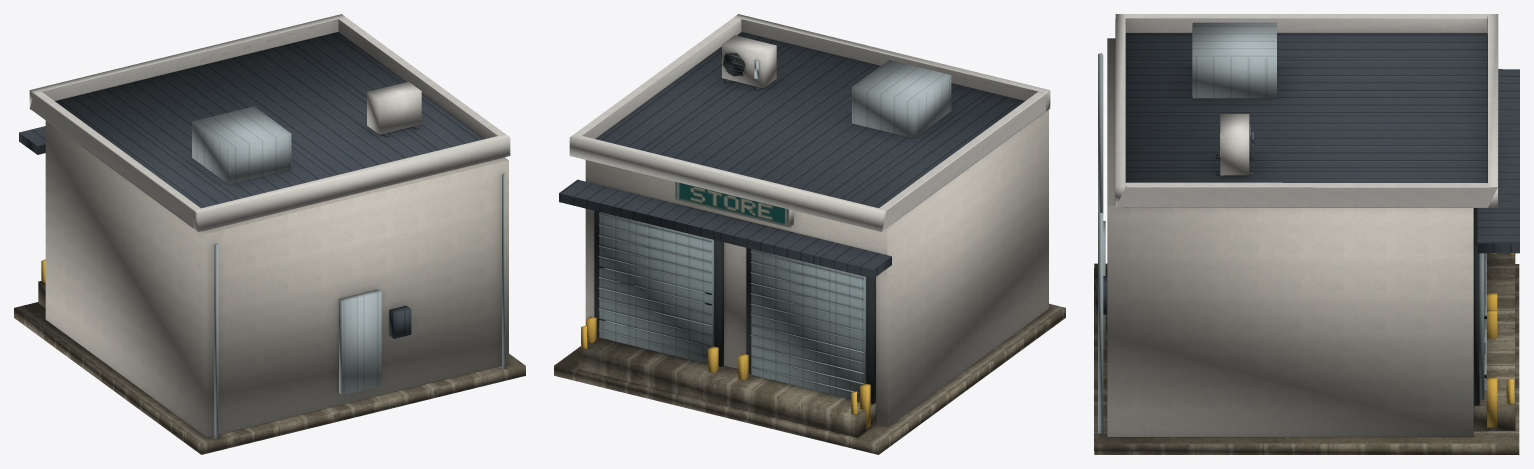
Rendered from factory_002.obj.
The picture shows the model from 3 angles, left to right: view 1: azimuth 30°, elevation 25°; view 2: azimuth 150°, elevation 25°; view 3: azimuth 270°, elevation 25°; orthographic projection. The views are drawn at different scales.
Visible parts, largest first — view 1: factory_002; view 2: factory_002; view 3: factory_002.
Boxes of the visible parts, bbox=[...] form: factory_002: bbox=[14, 14, 525, 454]; factory_002: bbox=[554, 14, 1065, 454]; factory_002: bbox=[1094, 14, 1519, 454].
Bounding box in the file's own units: 6.5 × 4.92 × 6.51.
Materials: 1 (1 with a texture image).
